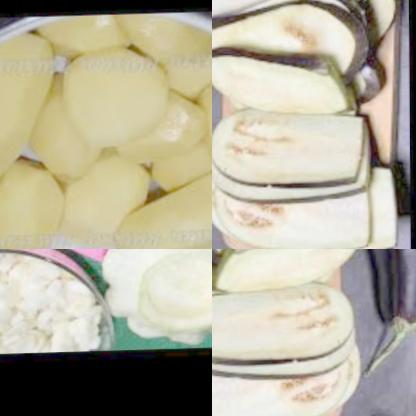eggplant: (212, 0, 379, 249), (212, 249, 379, 416), (358, 249, 416, 351)
potato: (61, 43, 168, 154), (41, 156, 139, 249), (0, 36, 51, 206), (29, 73, 103, 189), (106, 15, 212, 86), (125, 108, 207, 188), (119, 183, 212, 249), (0, 173, 66, 249), (43, 16, 130, 66), (158, 49, 212, 114), (187, 70, 212, 184)
squash-patisson: (96, 249, 212, 352)
